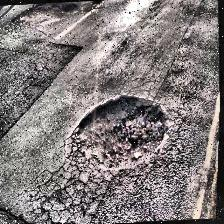pothole: (64, 88, 174, 178)
